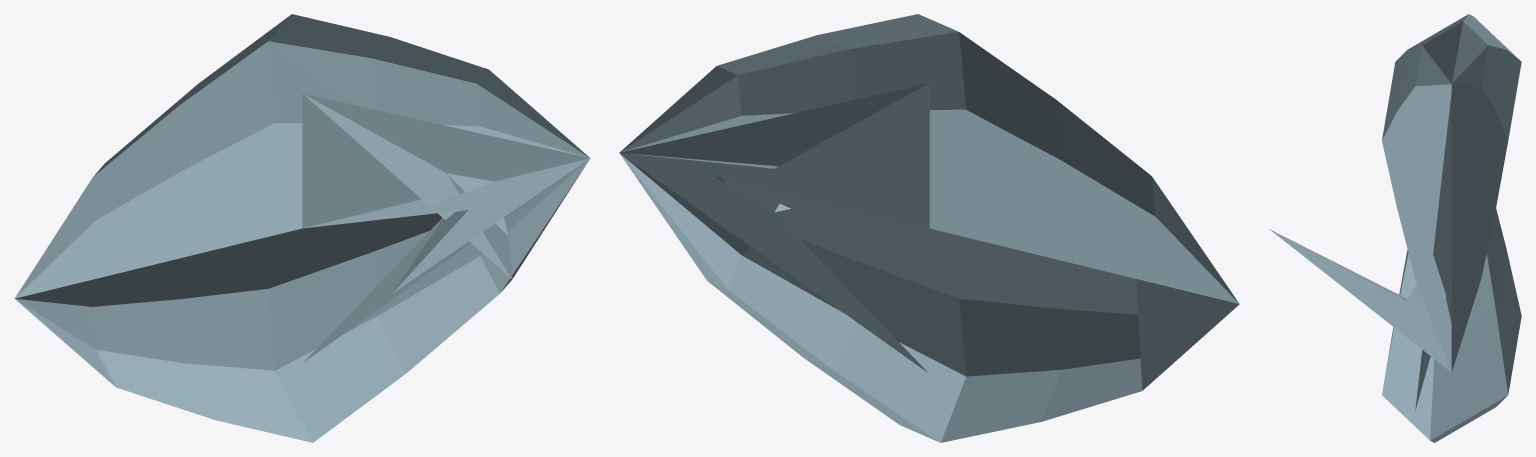
The model's file is caballa.glb.
The picture shows the model from 3 angles, left to right: view 1: azimuth 30°, elevation 25°; view 2: azimuth 150°, elevation 25°; view 3: azimuth 270°, elevation 25°; orthographic projection. The views are drawn at different scales.
Visible parts, largest first — view 1: caballa; view 2: caballa; view 3: caballa.
Part boxes in pixels (bbox=[...]): caballa: bbox=[14, 14, 590, 442]; caballa: bbox=[619, 14, 1239, 442]; caballa: bbox=[1269, 14, 1521, 442].
Bounding box in the file's own units: 1.25 × 0.8576 × 0.464.
